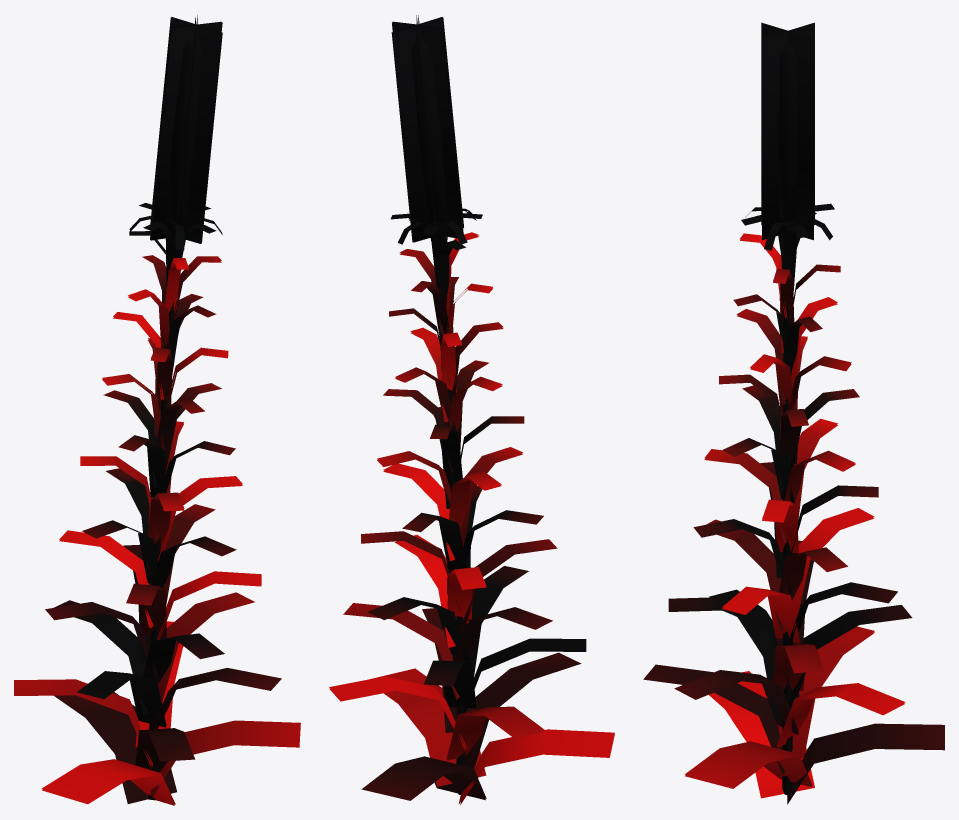
File: Flower03_AFS_high.FBX
The picture shows the model from 3 angles, left to right: view 1: azimuth 30°, elevation 25°; view 2: azimuth 150°, elevation 25°; view 3: azimuth 270°, elevation 25°; orthographic projection. The views are drawn at different scales.
Parts seen in each view (by area): view 1: Flower03_AFS_high; view 2: Flower03_AFS_high; view 3: Flower03_AFS_high.
Part boxes in pixels (<box>): Flower03_AFS_high: <box>14,15,300,805</box>; Flower03_AFS_high: <box>329,15,614,805</box>; Flower03_AFS_high: <box>643,22,944,804</box>.
Size of the model in its own units: 0.3101 by 0.9012 by 0.3124.
